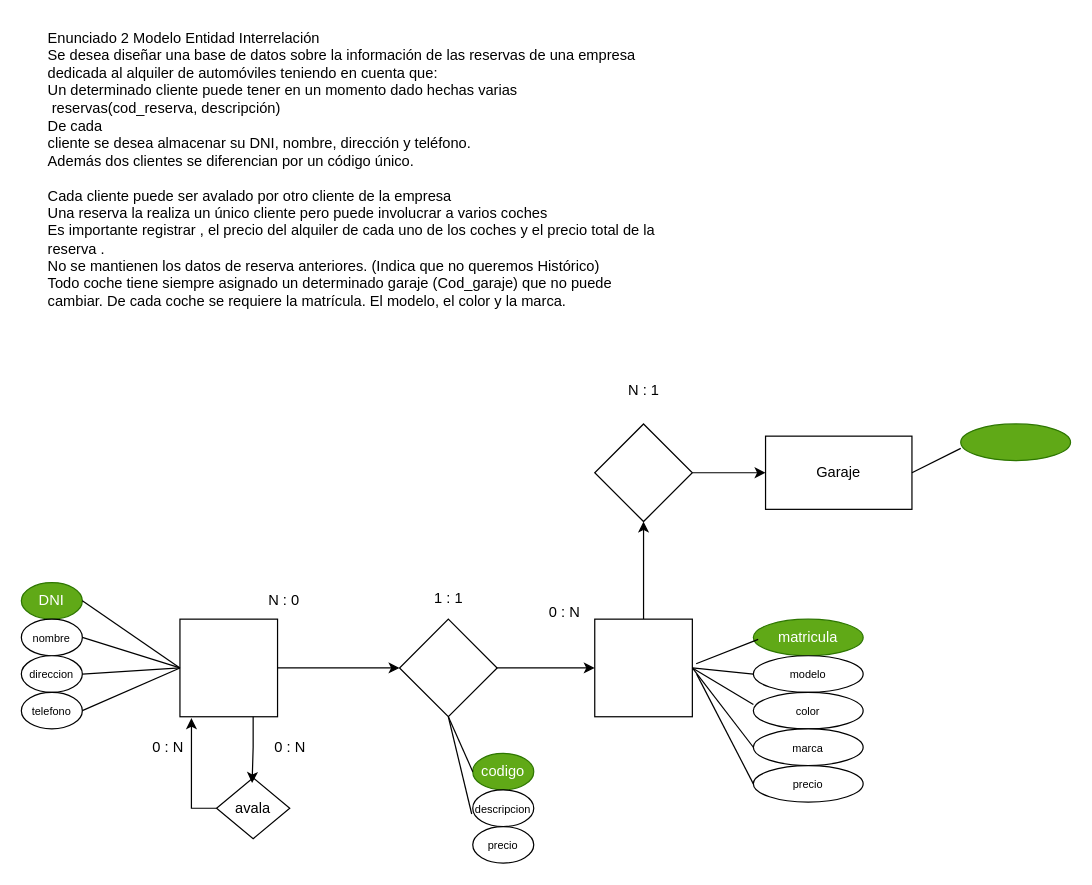
Image size: 1092x885. Some labels were removed from this diagram. Here are the shapes that lost their labels. From the top down, the centre of each, then its label:
point 1015,442: codigo_garaje
point 643,472: asigna
point 228,667: Cliente
point 447,667: reserva
point 643,667: coche
